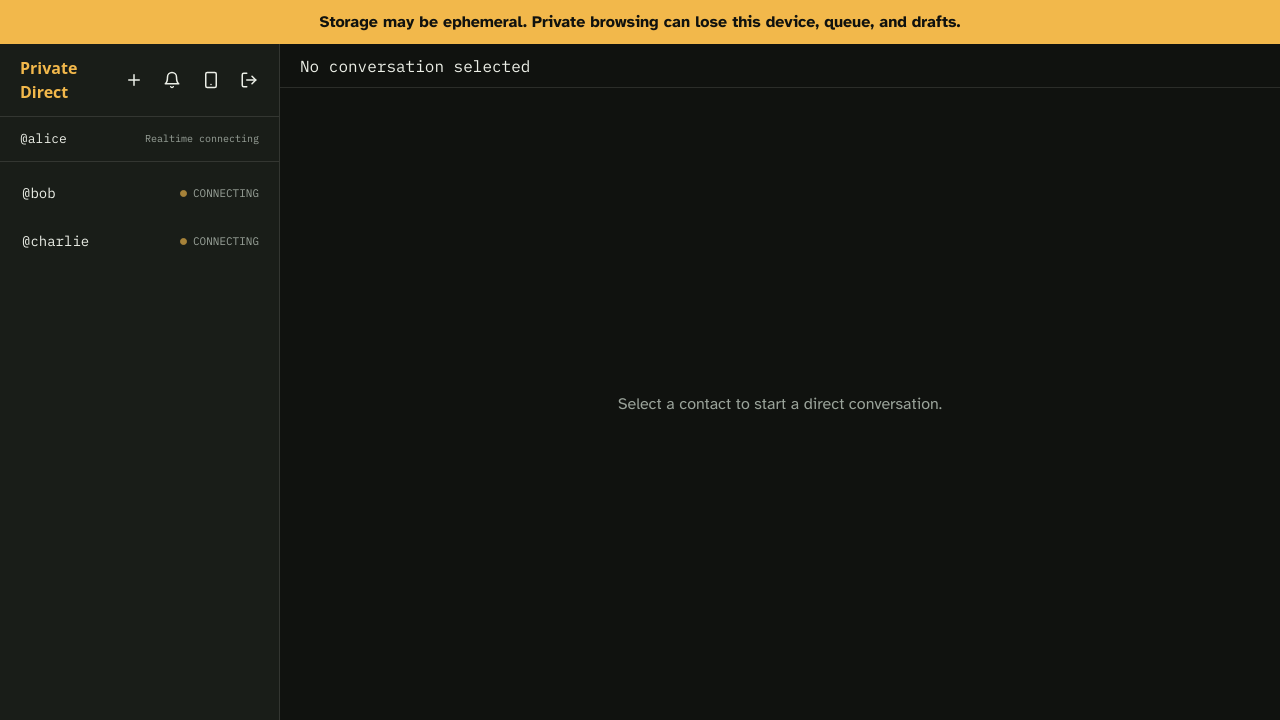
Test: realtime workspace › keeps one realtime connection while navigating conversations
The image size is (1280, 720).
Click the link with aria-label "@bob, connecting" at (226, 193), box [22,184,259,202]
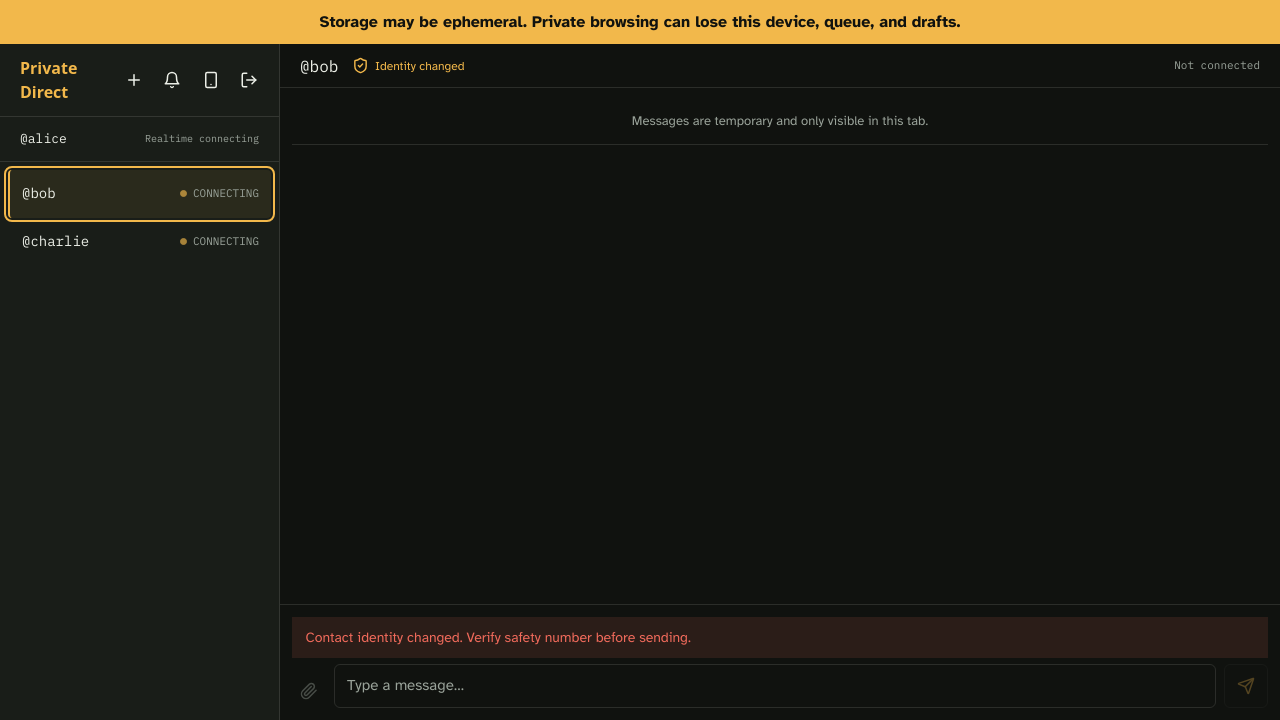
Now the text "@bob" in the row of "Not connected" is shown, box [300,56,338,76]
